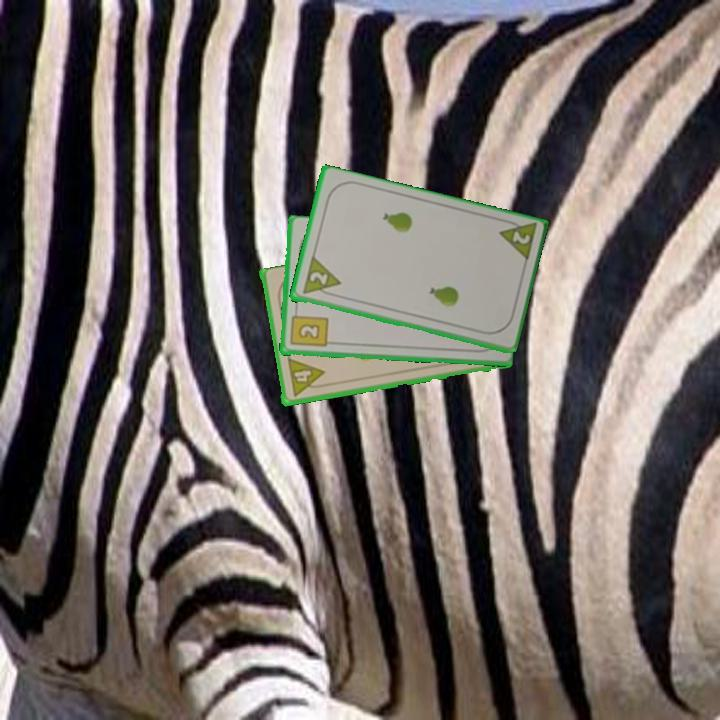2b: (287, 306, 330, 350)
2p: (495, 216, 539, 266), (299, 255, 343, 300)
4p: (284, 355, 328, 400)
